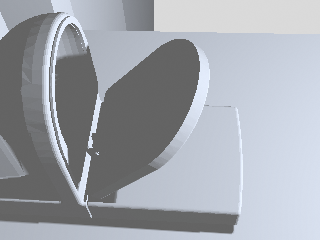lid_1: (86, 39, 209, 200)
